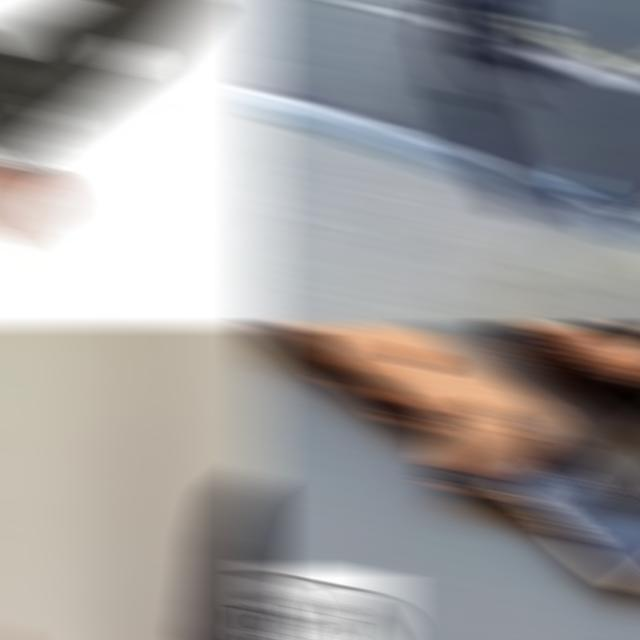Knife: (250, 324, 640, 591)
Knife_Handle: (0, 0, 265, 312)
